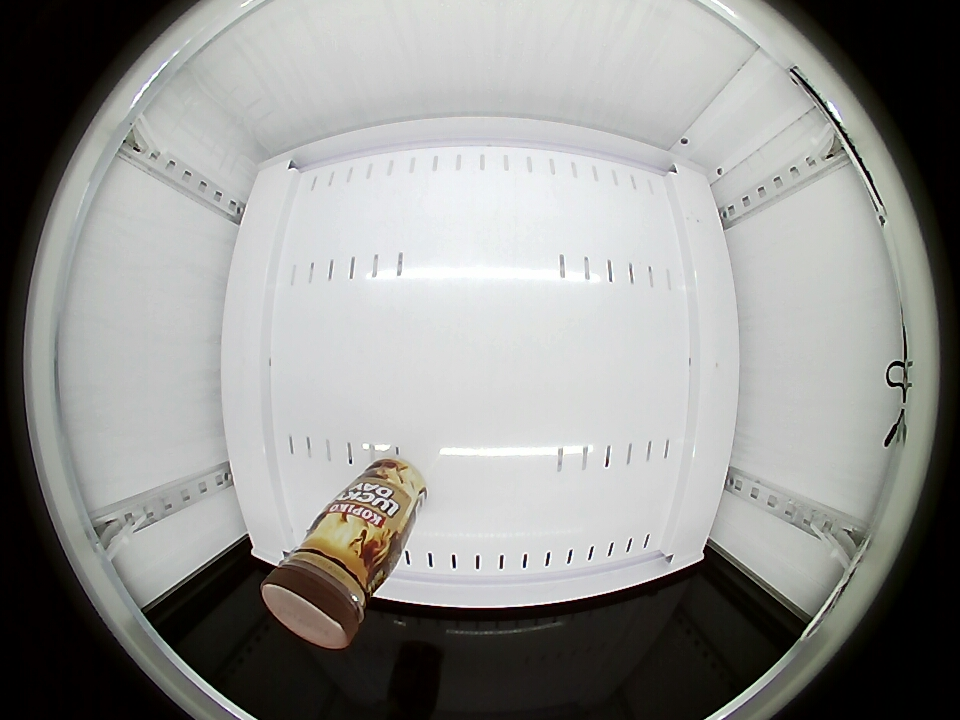lujikafei: (261, 521, 392, 648)
